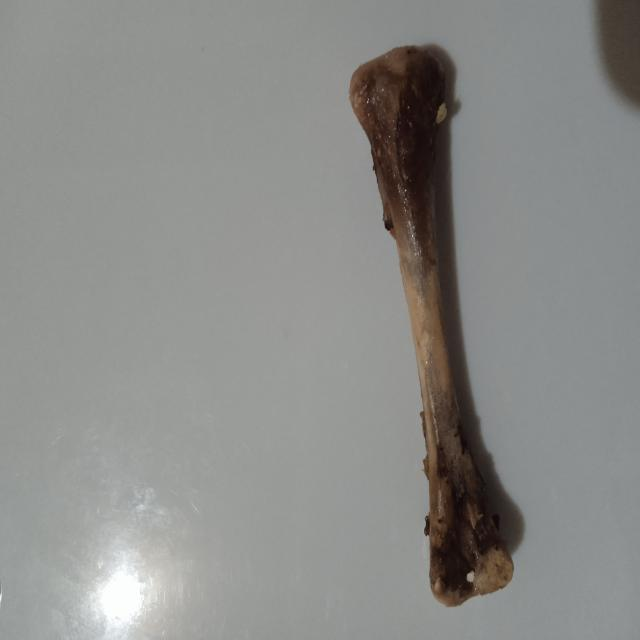bone: (346, 40, 520, 612)
